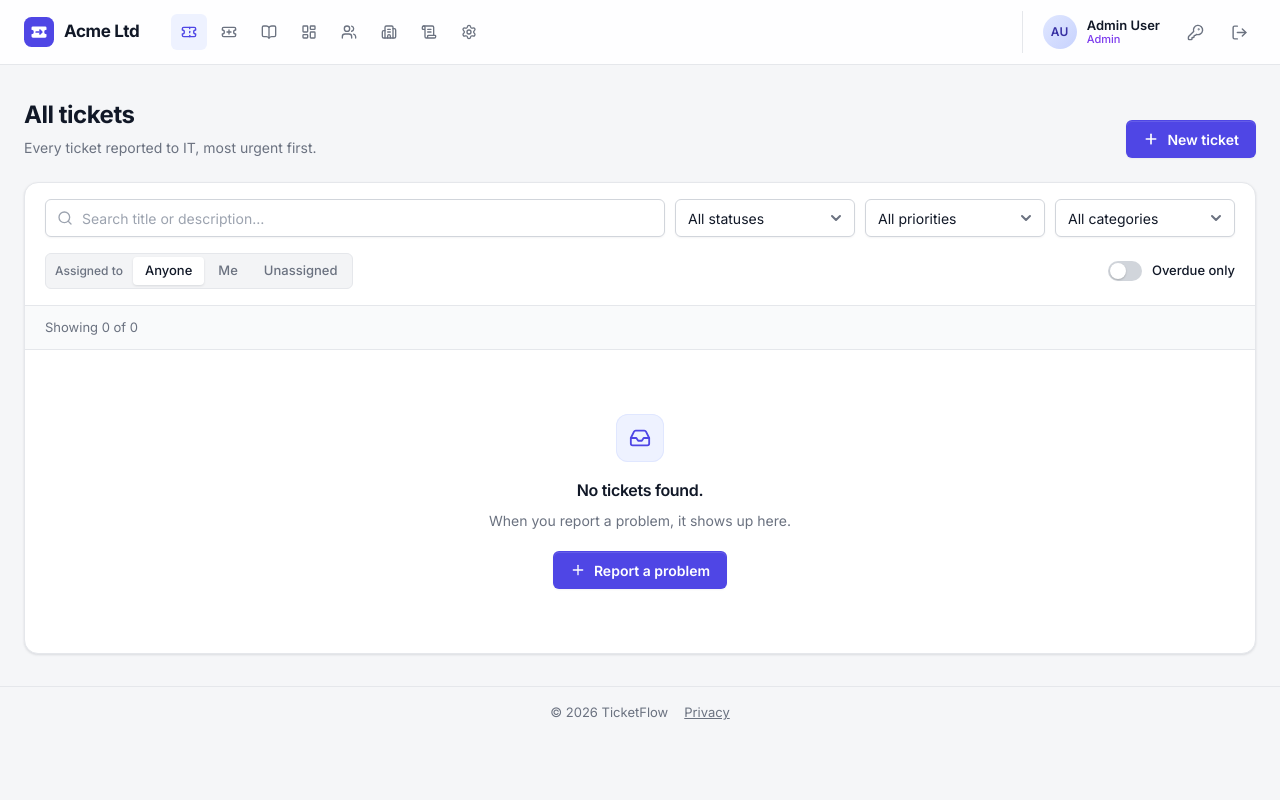
Settings: access › an admin gets a "Settings" link in the nav, and it opens the page
The width and height of the screenshot is (1280, 800).
What coordinates should you click on to do the following:
click the link named "Settings"
I would click on:
 (469, 32)
Its box is [461,24,477,40].
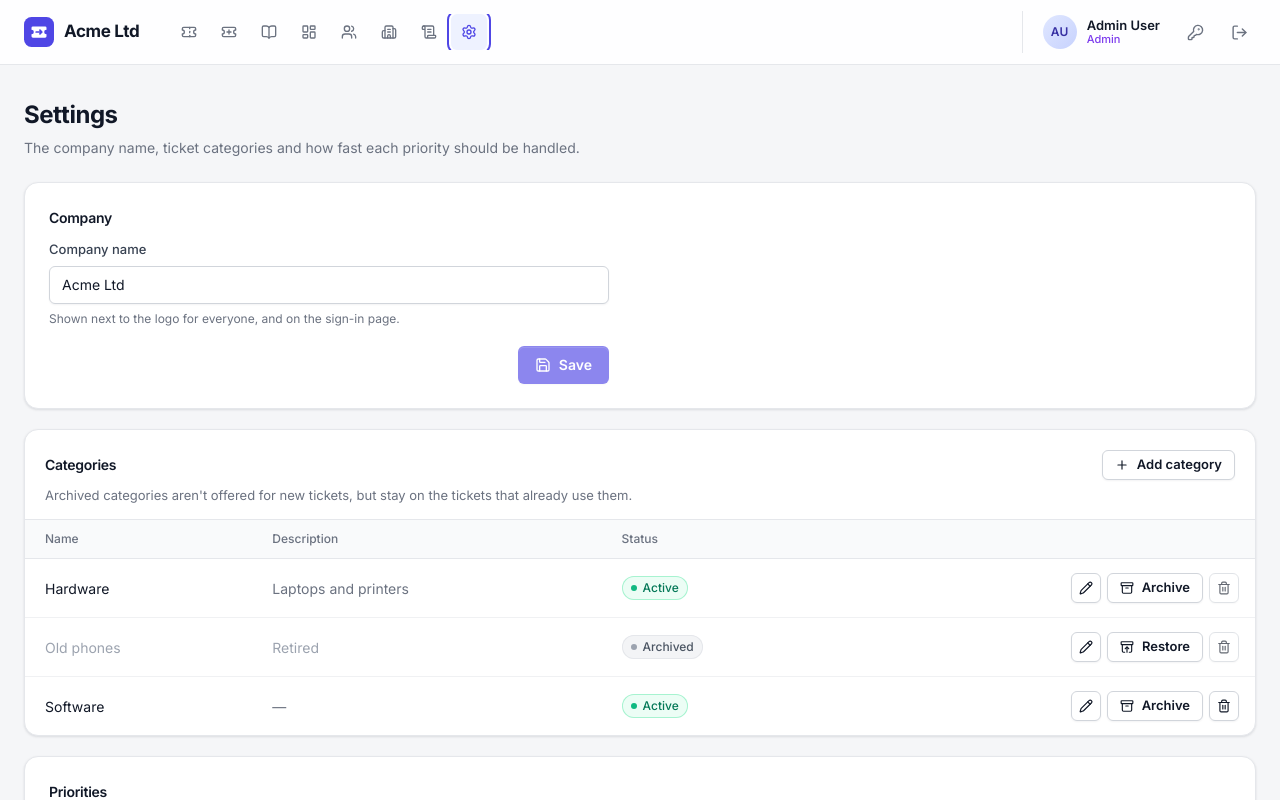
Expected: the heading "Settings" is shown, [24,100,118,129]
